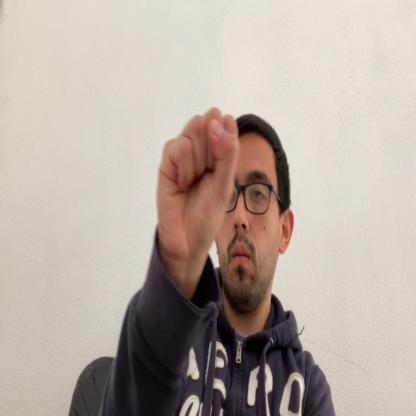S: (155, 107, 240, 271)
